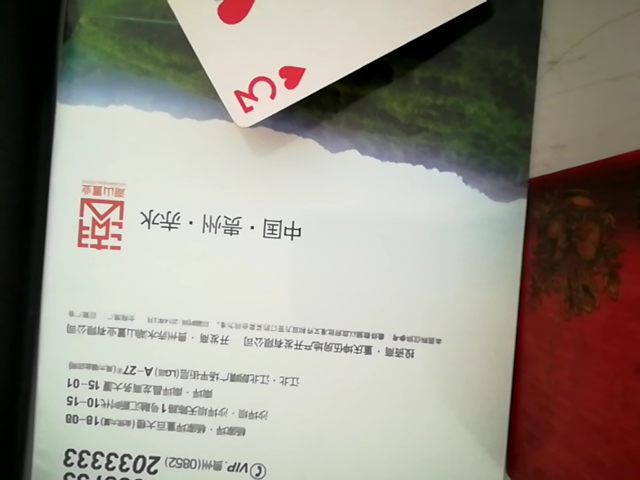hx 3: (110, 3, 556, 132)
